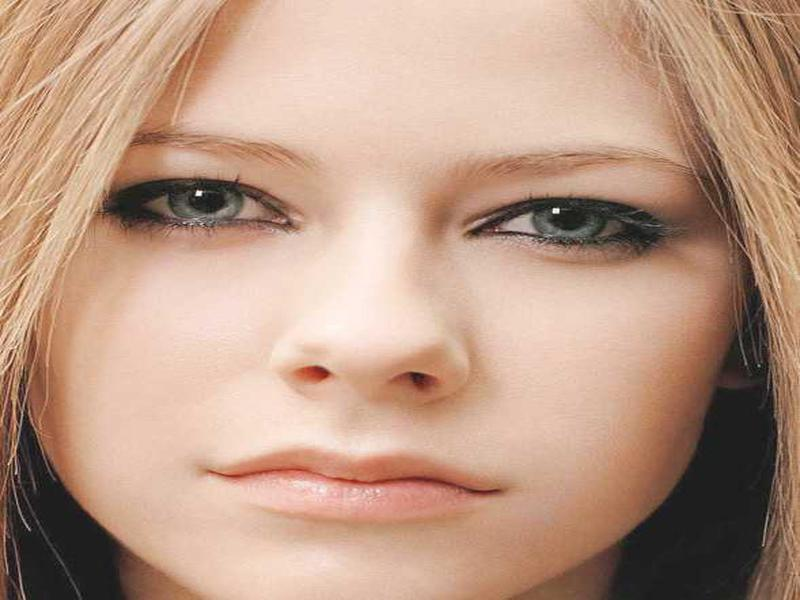person: (9, 1, 789, 600)
